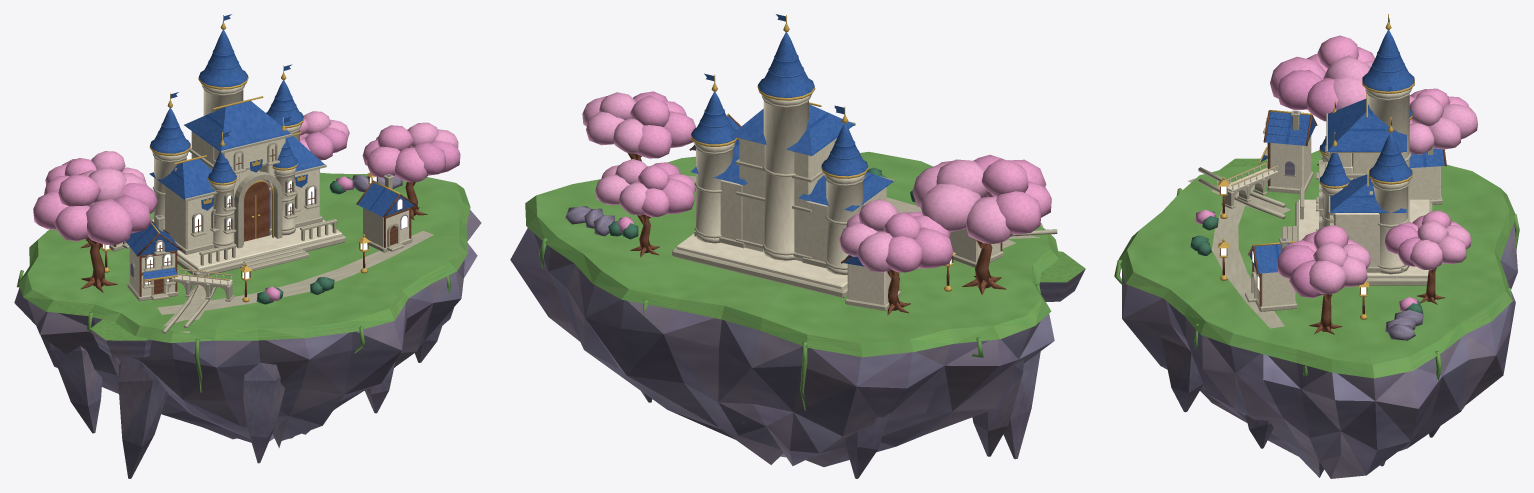
Rendered from royal-island-left-balanced.glb.
3 renders of one model, left to right at view 1: azimuth 30°, elevation 25°; view 2: azimuth 150°, elevation 25°; view 3: azimuth 270°, elevation 25°, orthographic. The views are drawn at different scales.
Parts seen in each view (by area): view 1: royal-island-left; view 2: royal-island-left; view 3: royal-island-left.
Boxes of the visible parts, <box> form: royal-island-left: <box>14,14,481,478</box>; royal-island-left: <box>510,14,1085,478</box>; royal-island-left: <box>1114,14,1519,478</box>.
Size of the model in its own units: 17.22 by 15.19 by 12.75.
10 materials, 10 textured.
